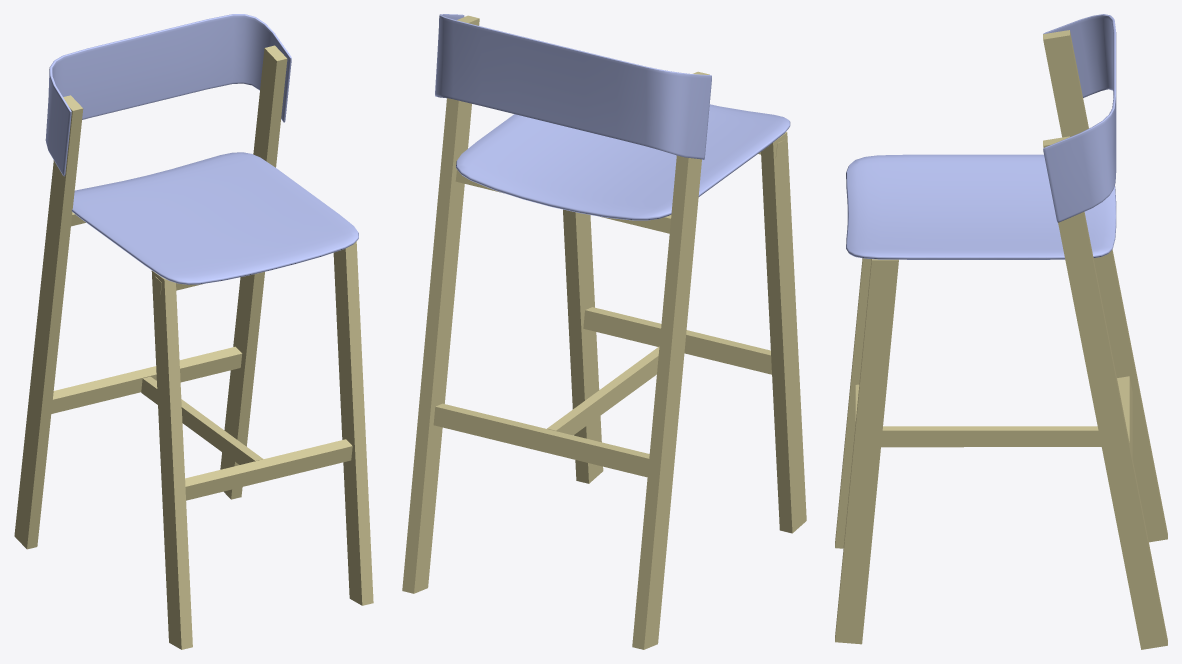
3 views of the same model, side by side, from view 1: azimuth 30°, elevation 25°; view 2: azimuth 150°, elevation 25°; view 3: azimuth 270°, elevation 25° (orthographic). The views are drawn at different scales.
Parts seen in each view (by area): view 1: chair5; view 2: chair5; view 3: chair5.
Boxes of the visible parts, x1,y1,x2,y2 form: chair5: (14, 14, 373, 649); chair5: (402, 14, 806, 649); chair5: (835, 14, 1167, 649).
Bounding box in the file's own units: 48.42 × 104 × 58.84.
